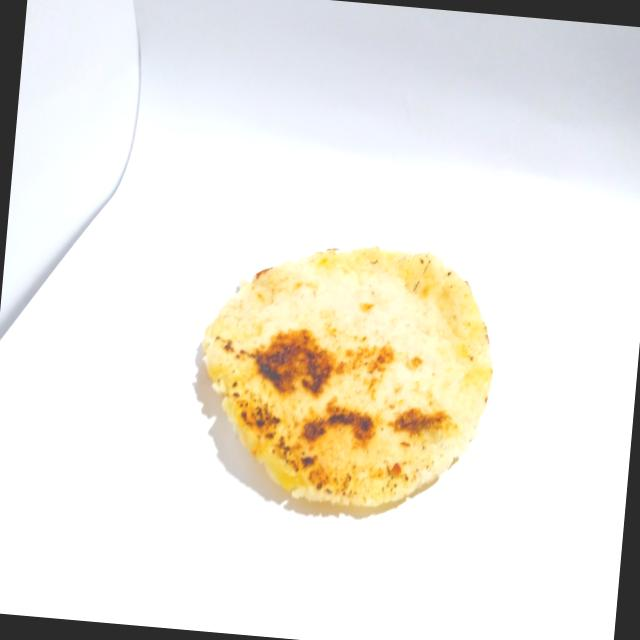Mbeju: (177, 213, 515, 549)
